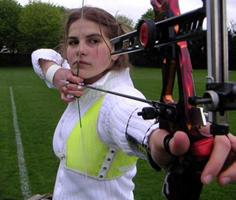person: (32, 5, 234, 199)
